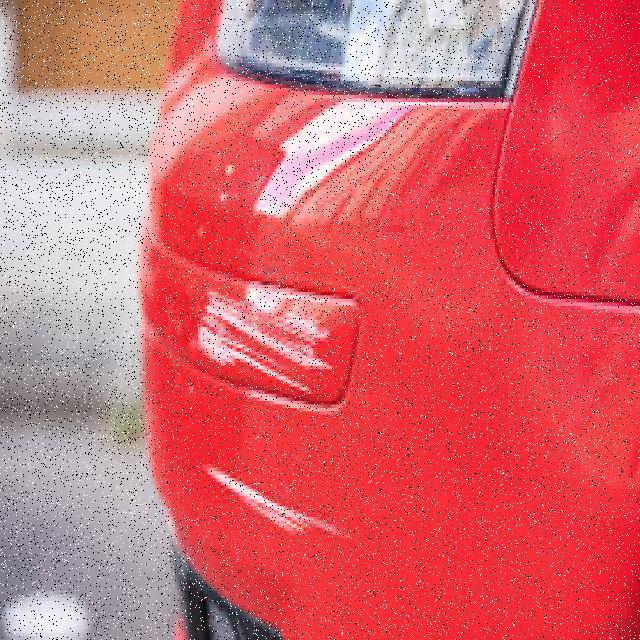front-bumper-dent: (115, 46, 504, 636)
